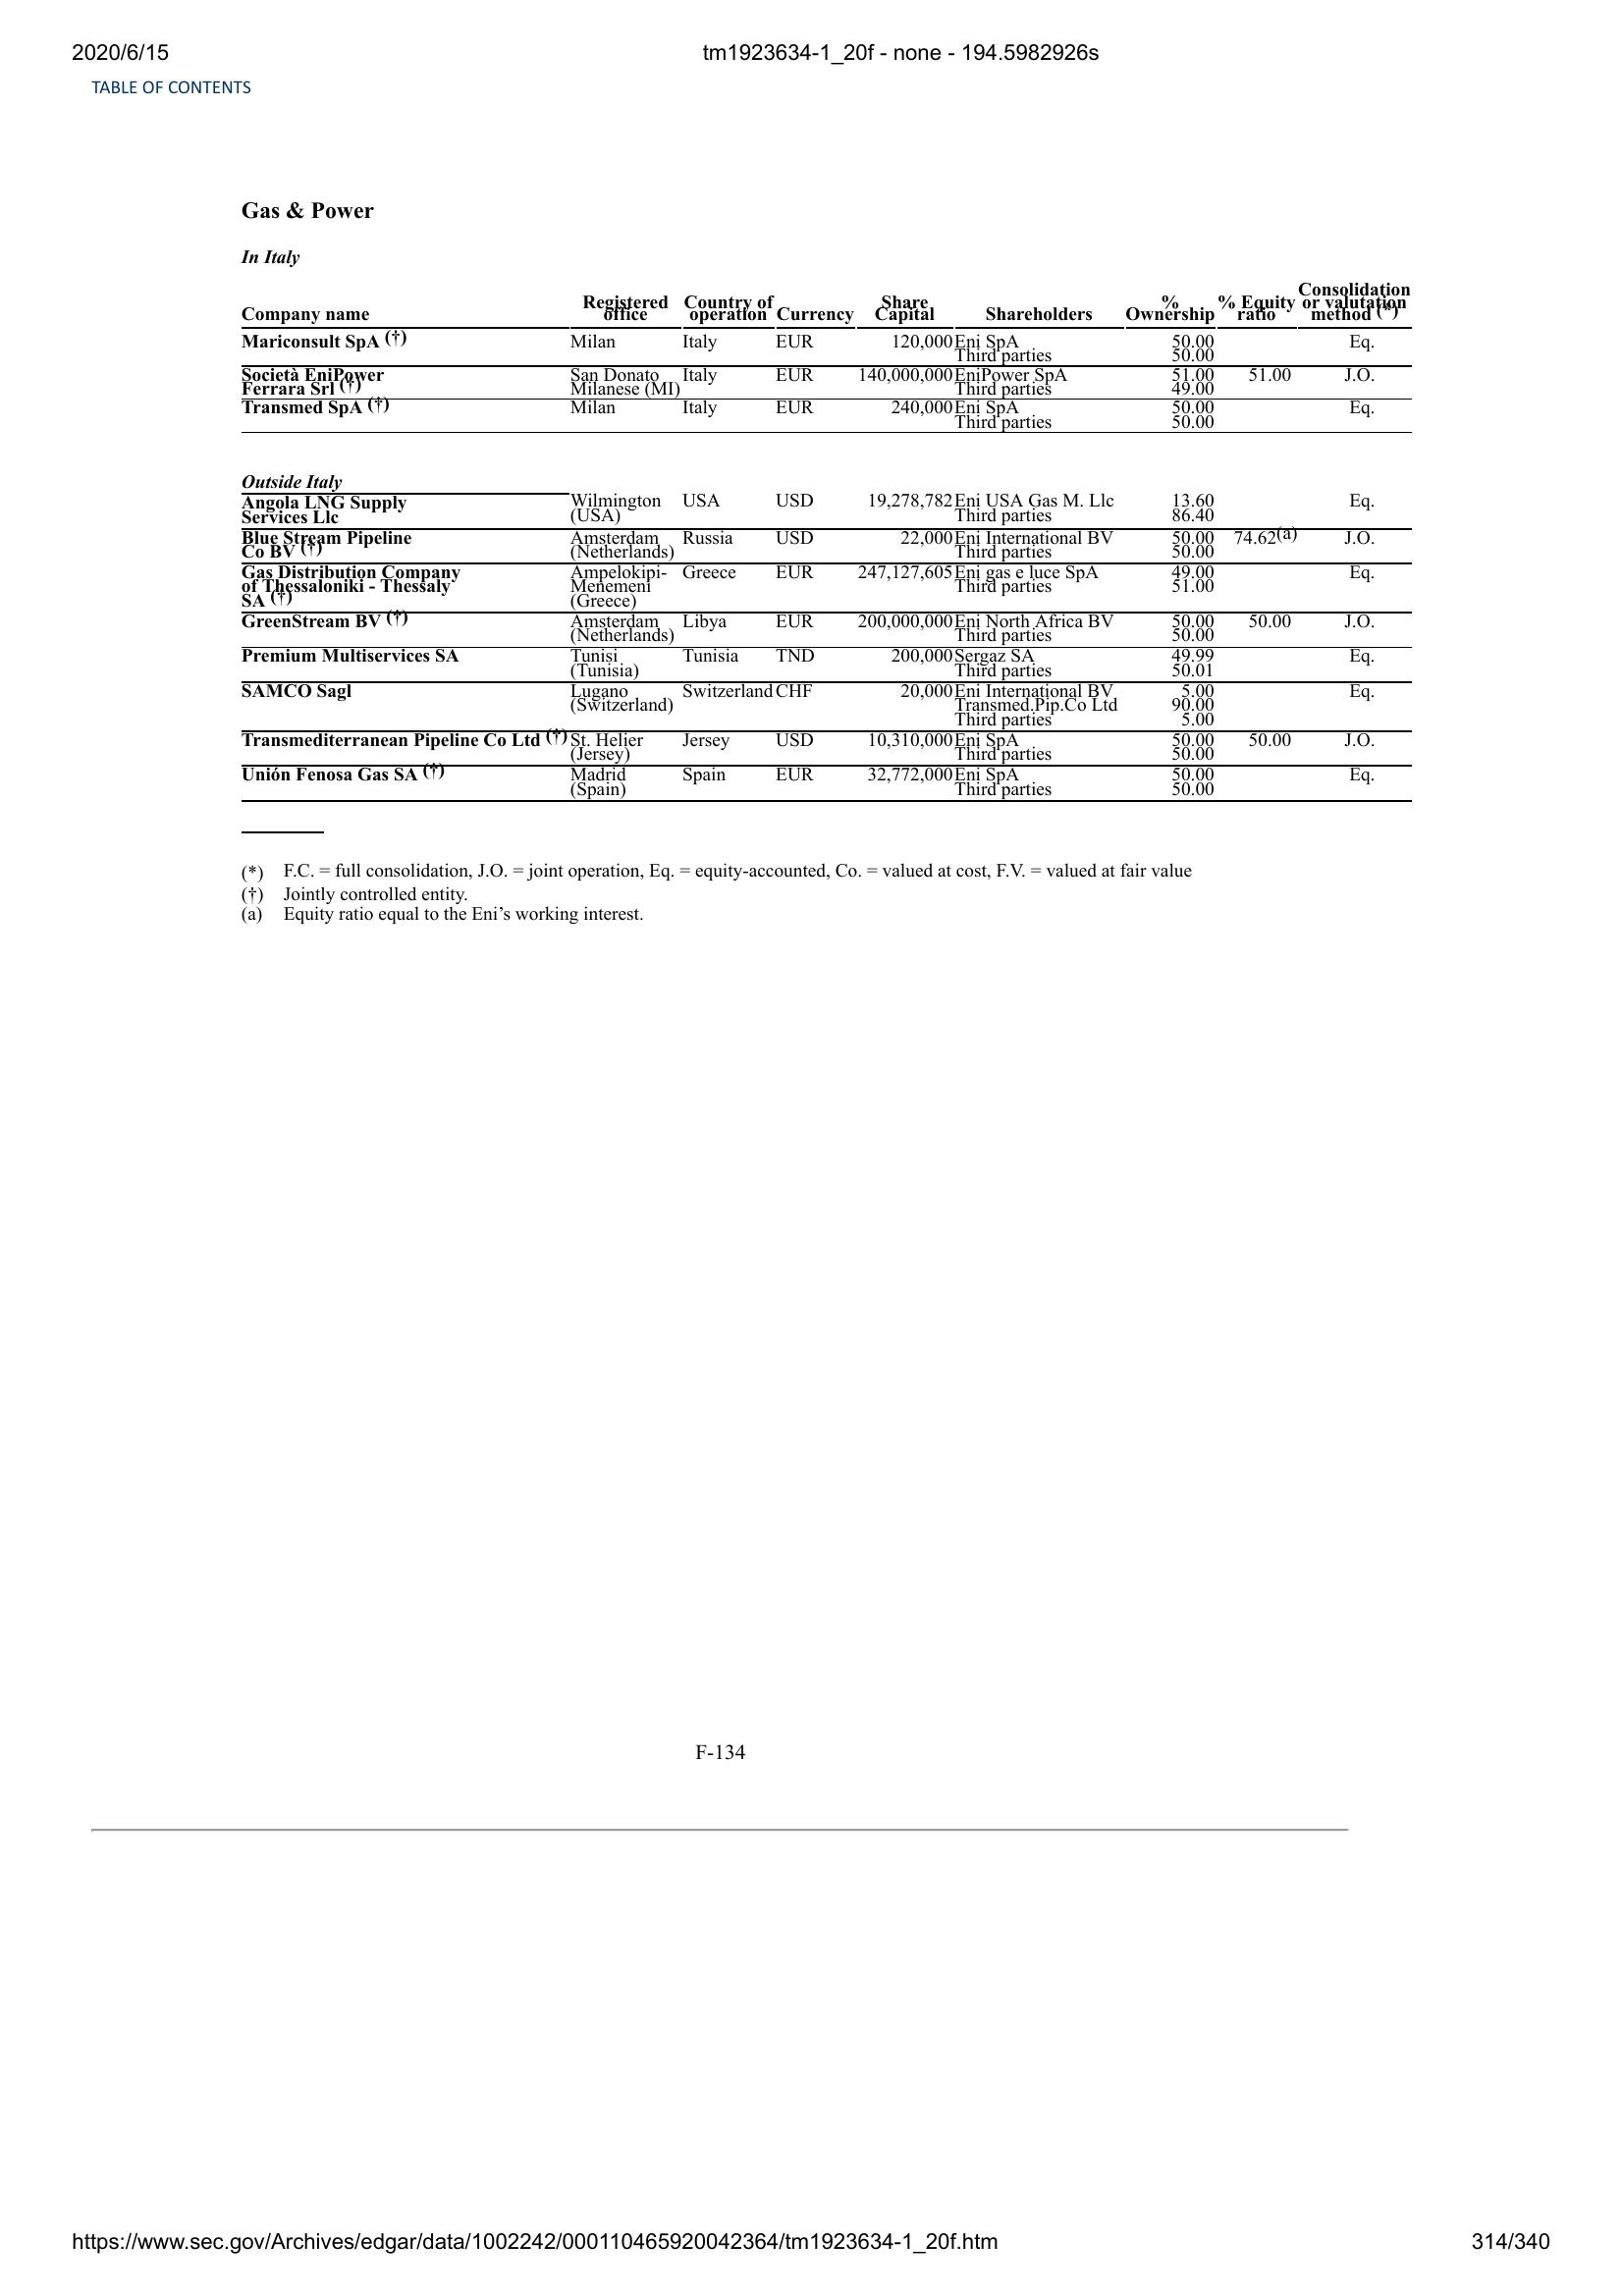table: (230, 277, 1423, 809)
